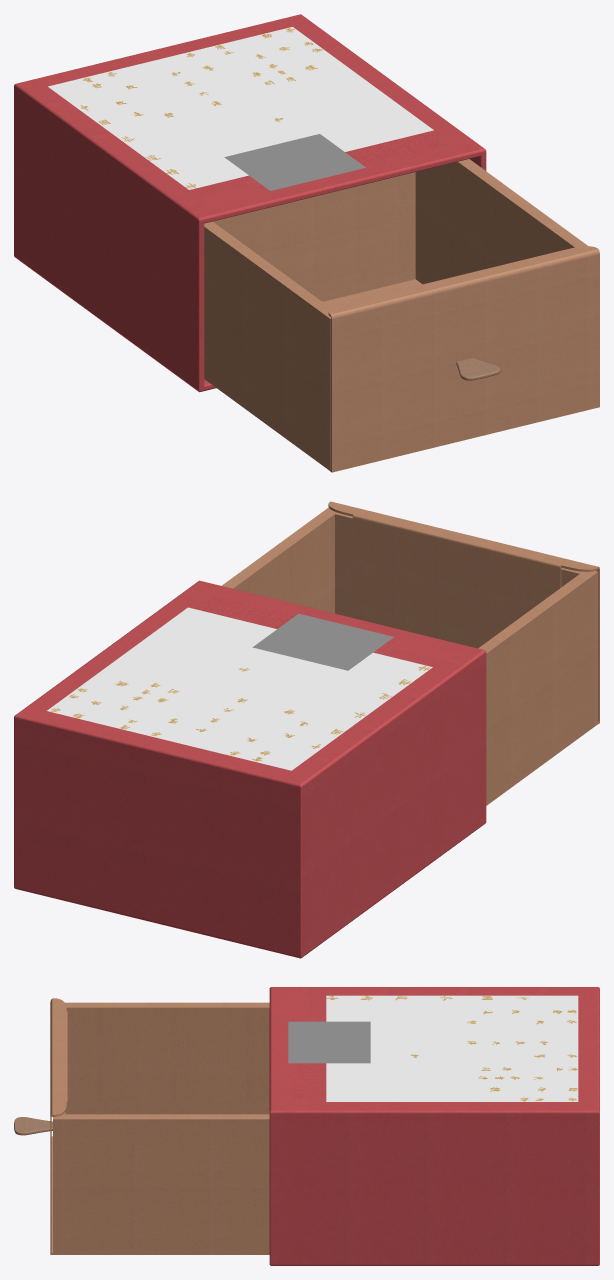
Rendered from CCQ02MD04.obj.
3 views of the same model, one above another, from view 1: azimuth 30°, elevation 25°; view 2: azimuth 150°, elevation 25°; view 3: azimuth 270°, elevation 25° (orthographic). The views are drawn at different scales.
Visible parts, largest first — view 1: DirectConnectNode_11_DC_Shell, Plane013, Rectangle002, Plane012; view 2: DirectConnectNode_11_DC_Shell, Plane013, Rectangle002, Plane012; view 3: DirectConnectNode_11_DC_Shell, Plane013, Rectangle002, Plane012.
Part boxes in pixels (box(x1,y1,x2,y2)): DirectConnectNode_11_DC_Shell: box(14, 14, 599, 472); Plane013: box(48, 27, 433, 189); Rectangle002: box(224, 134, 365, 190); Plane012: box(239, 131, 447, 191); DirectConnectNode_11_DC_Shell: box(14, 501, 599, 958); Plane013: box(47, 607, 432, 770); Rectangle002: box(252, 613, 393, 670); Plane012: box(193, 595, 401, 654); DirectConnectNode_11_DC_Shell: box(14, 987, 599, 1265); Plane013: box(326, 995, 578, 1101); Rectangle002: box(288, 1021, 370, 1063); Plane012: box(292, 1017, 326, 1099).
Bounding box in the file's own units: 121 × 70.16 × 239.
7 materials, 5 textured.
